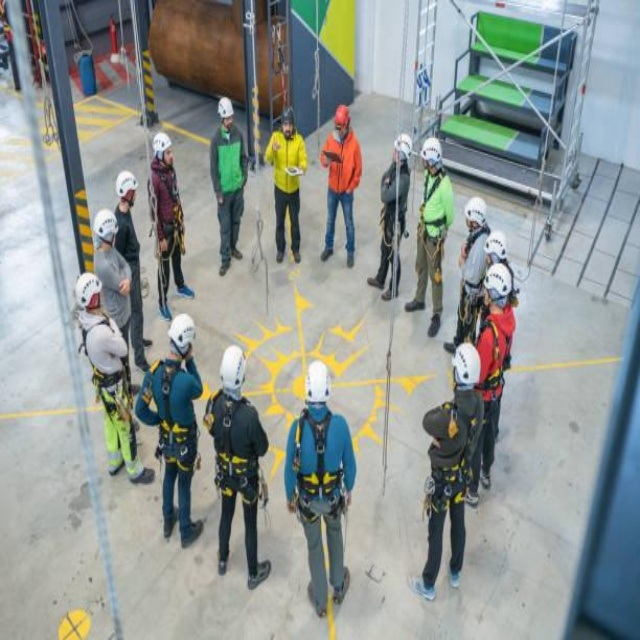Arnes_seguridad: (420, 399, 481, 516), (78, 320, 136, 428), (296, 413, 348, 527), (153, 358, 199, 473), (209, 404, 261, 505), (146, 174, 188, 268), (483, 312, 519, 420), (417, 173, 451, 286), (459, 234, 491, 327), (380, 167, 411, 262)
